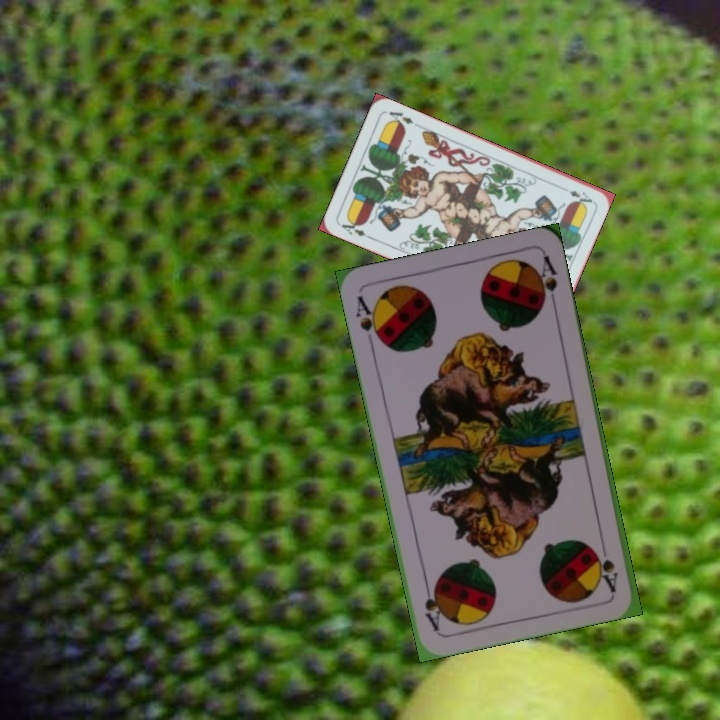EA: (337, 215, 375, 242), (556, 183, 595, 205)
SA: (351, 291, 385, 349), (593, 548, 621, 594)
